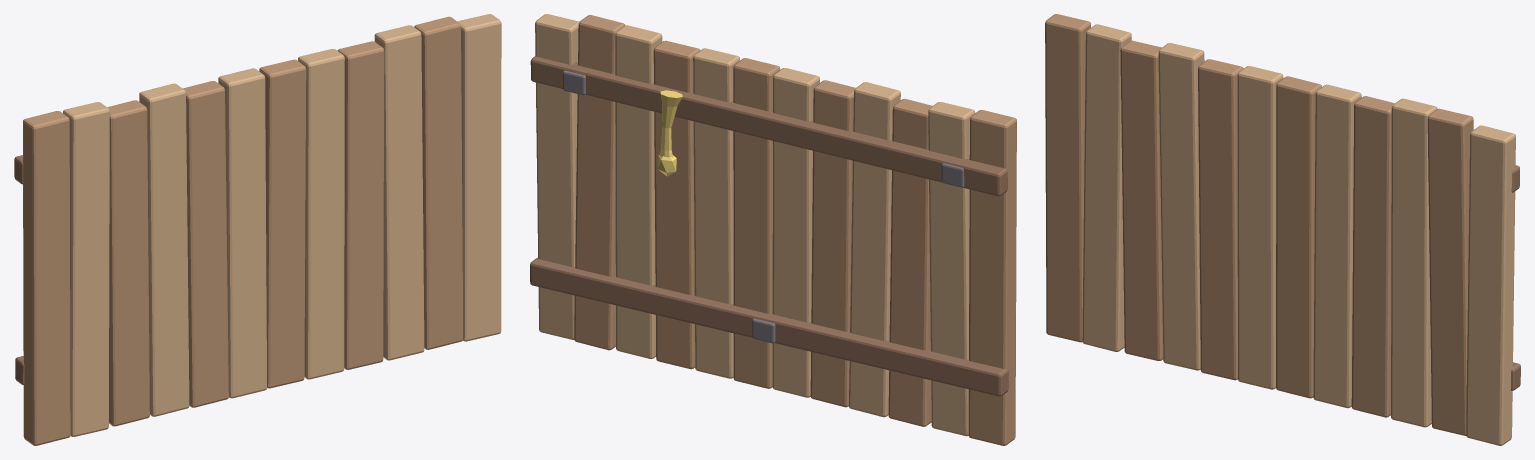
File: Kit_PlankWall.fbx
3 views of the same model, side by side, from view 1: azimuth 30°, elevation 25°; view 2: azimuth 150°, elevation 25°; view 3: azimuth 330°, elevation 25° (orthographic). The views are drawn at different scales.
Visible parts, largest first — view 1: Kit_PlankWall; view 2: Kit_PlankWall; view 3: Kit_PlankWall.
Part boxes in pixels (x1,y1,x2,y2): Kit_PlankWall: [14, 14, 501, 445]; Kit_PlankWall: [530, 14, 1016, 445]; Kit_PlankWall: [1045, 14, 1520, 445].
Bounding box in the file's own units: 4 × 2.6 × 0.3403.
